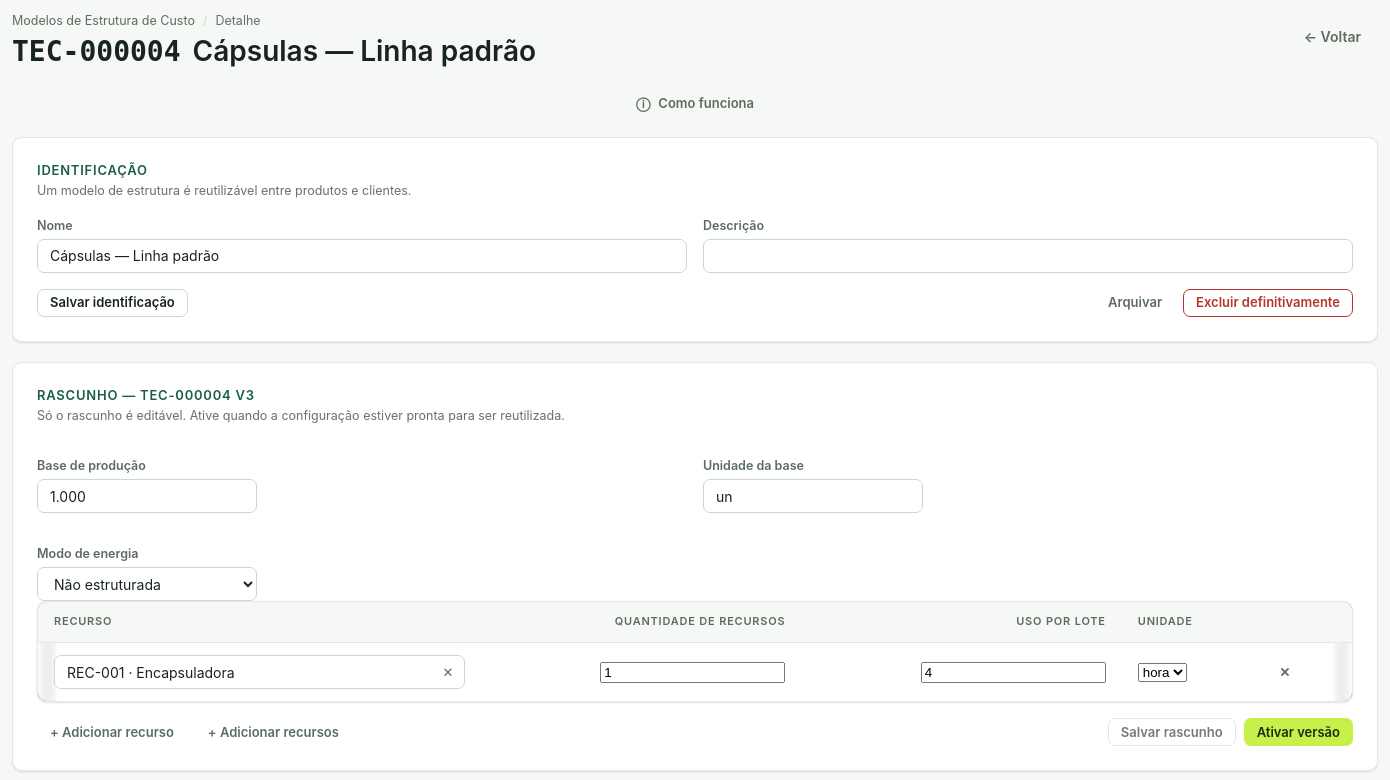
Scenario: Modelo de Estrutura — gravar responde, e só depois da API › Salvando… no botão clicado, clique duplo recusado, e Rascunho salvo. só com a resposta
Replace the text in the field labelled "Base de produção" with "2000" at (147, 496), box [37,479,257,513]
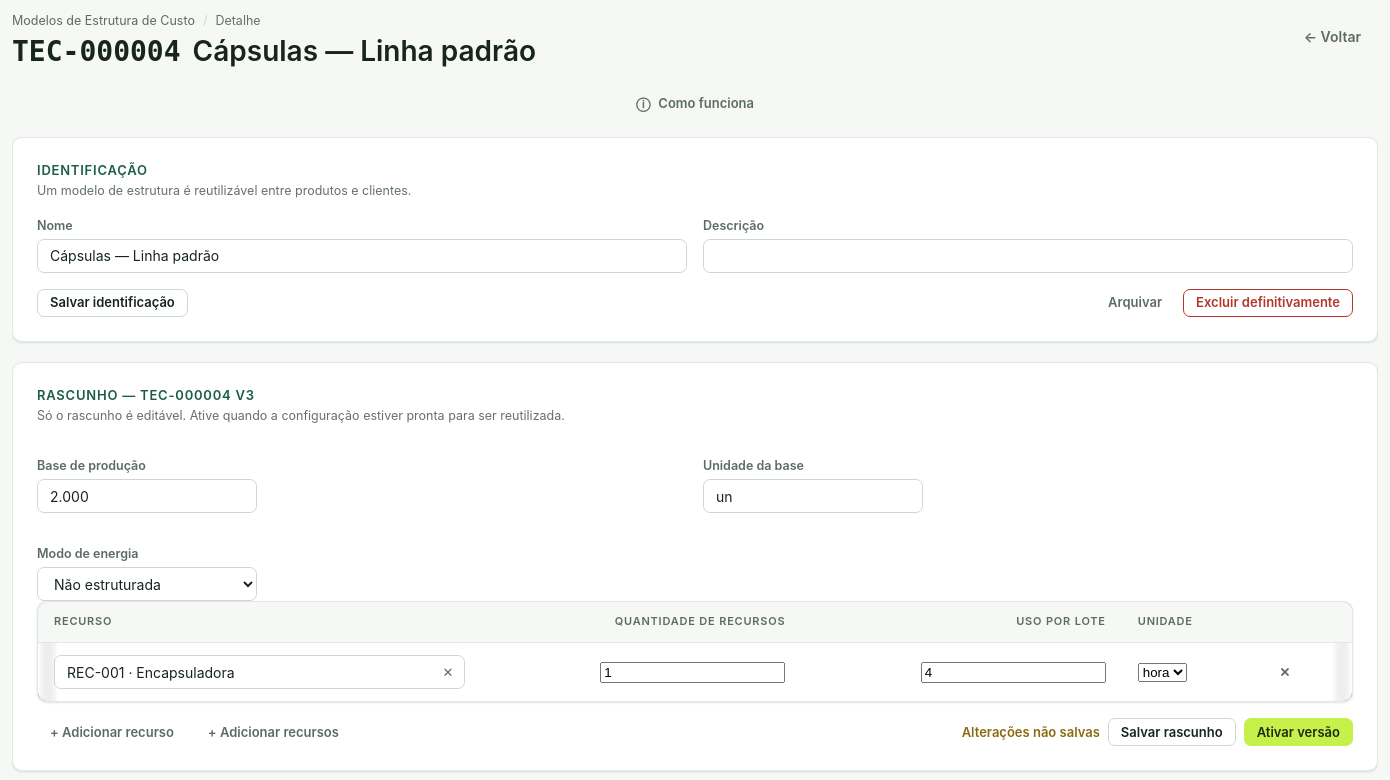
Click the button "Salvar rascunho" at (1172, 732), box [1108,718,1236,746]
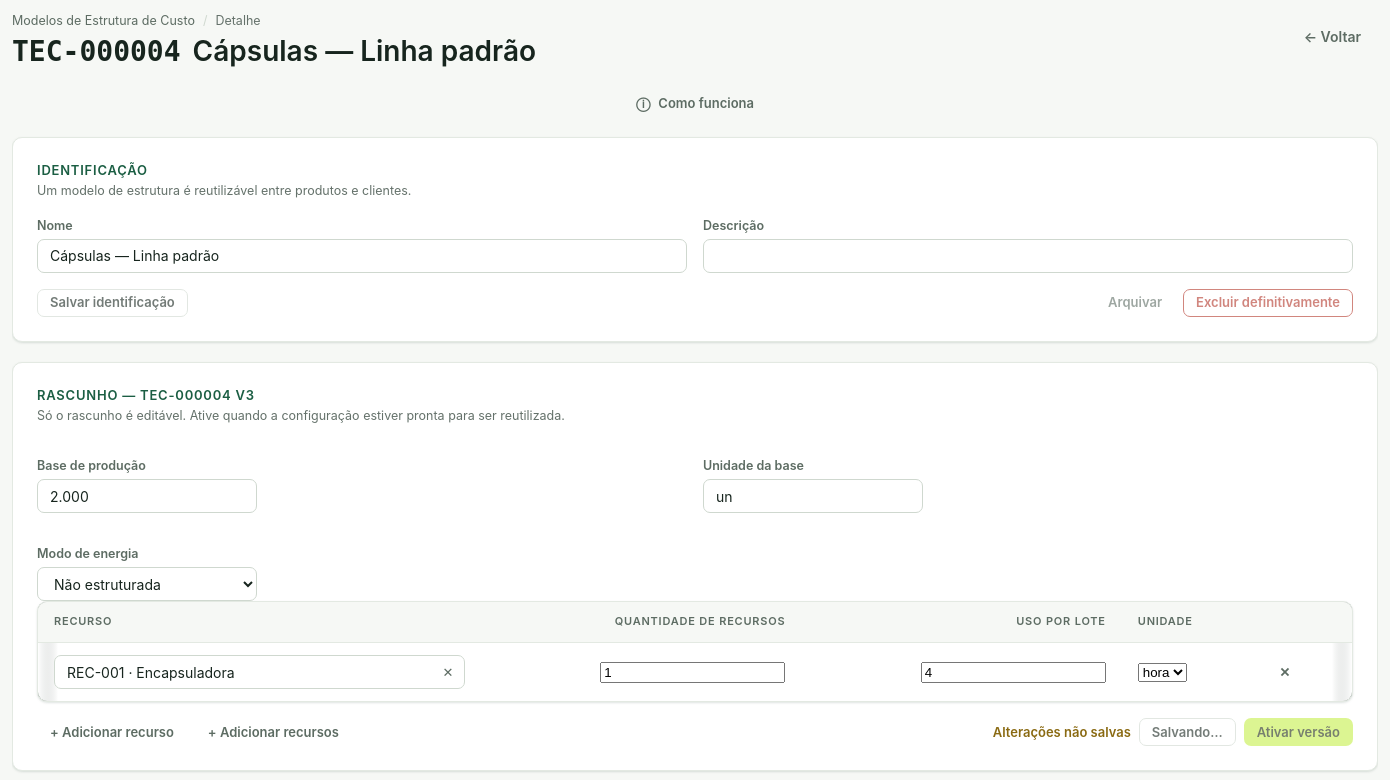
Expected: the button "Salvando…" is disabled
Expected: the button "Ativar versão" is disabled, [1244,718,1353,746]
Expected: the button "Salvar identificação" is disabled, [37,289,188,317]
Click the button "Salvando…" at (1187, 732), box [1139,718,1236,746]
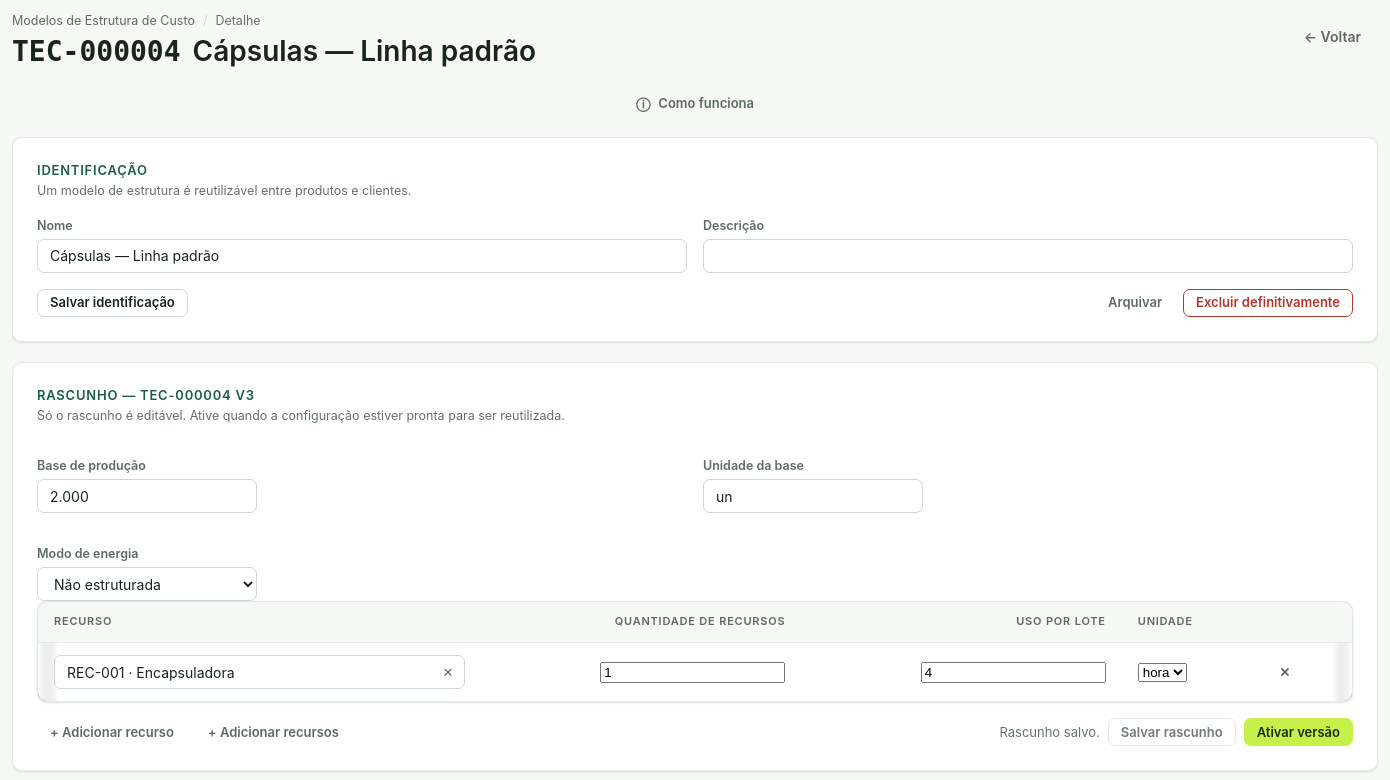
Expected: the text "Rascunho salvo." is shown once, [999,723,1100,742]
Expected: the button "Salvando…" is gone
